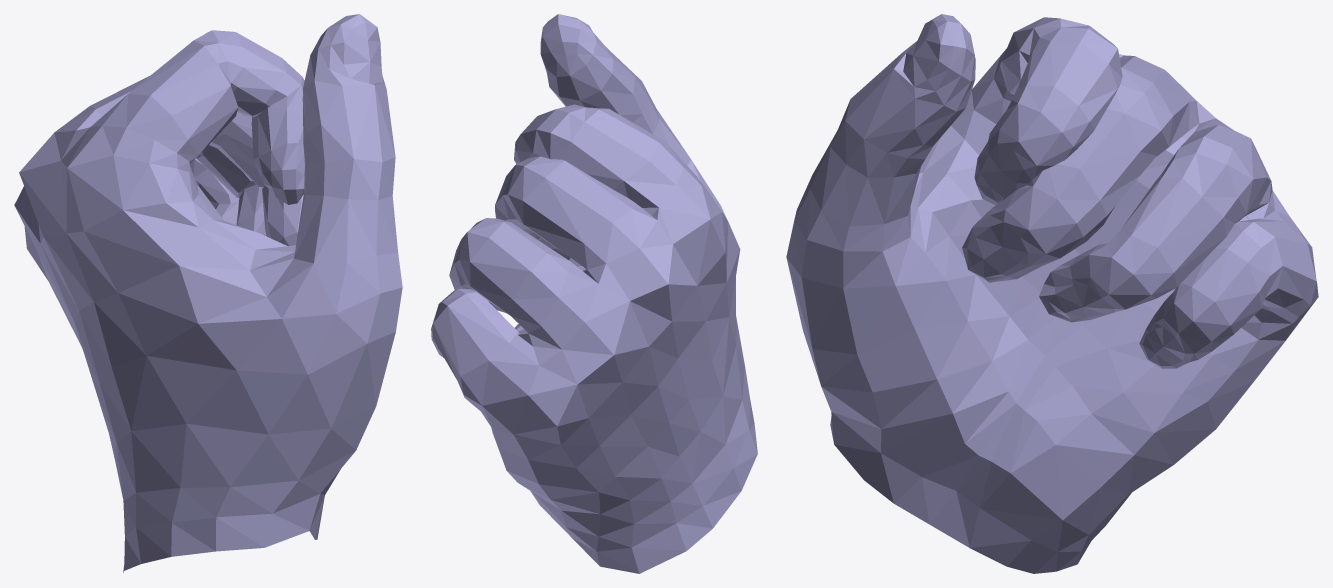
The model's file is frame_0033_source_000033_hand.glb.
3 renders of one model, left to right at view 1: azimuth 30°, elevation 25°; view 2: azimuth 150°, elevation 25°; view 3: azimuth 270°, elevation 25°, orthographic. The views are drawn at different scales.
Parts seen in each view (by area): view 1: world; view 2: world; view 3: world.
Part boxes in pixels (<box>): world: <box>14,14,402,572</box>; world: <box>431,14,757,573</box>; world: <box>786,14,1318,573</box>.
Size of the model in its own units: 0.06 by 0.1239 by 0.0996.
